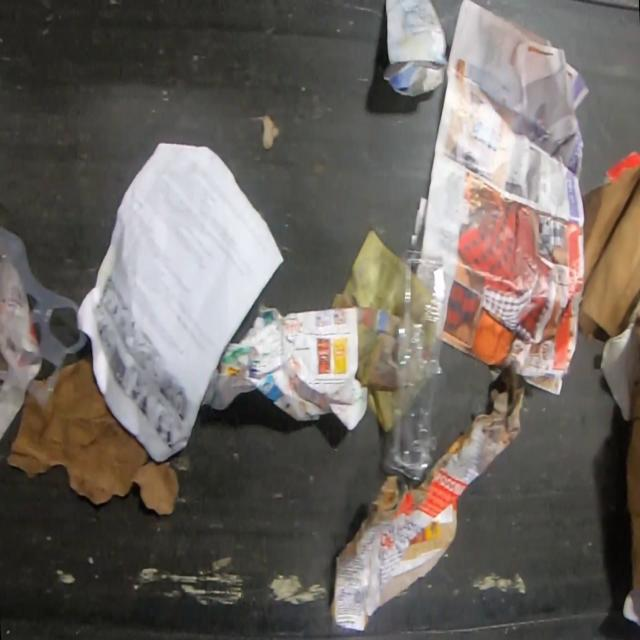cardboard: (329, 360, 530, 633), (4, 349, 181, 516), (578, 161, 640, 343), (382, 0, 450, 99), (624, 378, 640, 591), (600, 148, 640, 186)
rigid_plastic: (378, 247, 455, 487)
soft_plastic: (0, 225, 89, 409)
